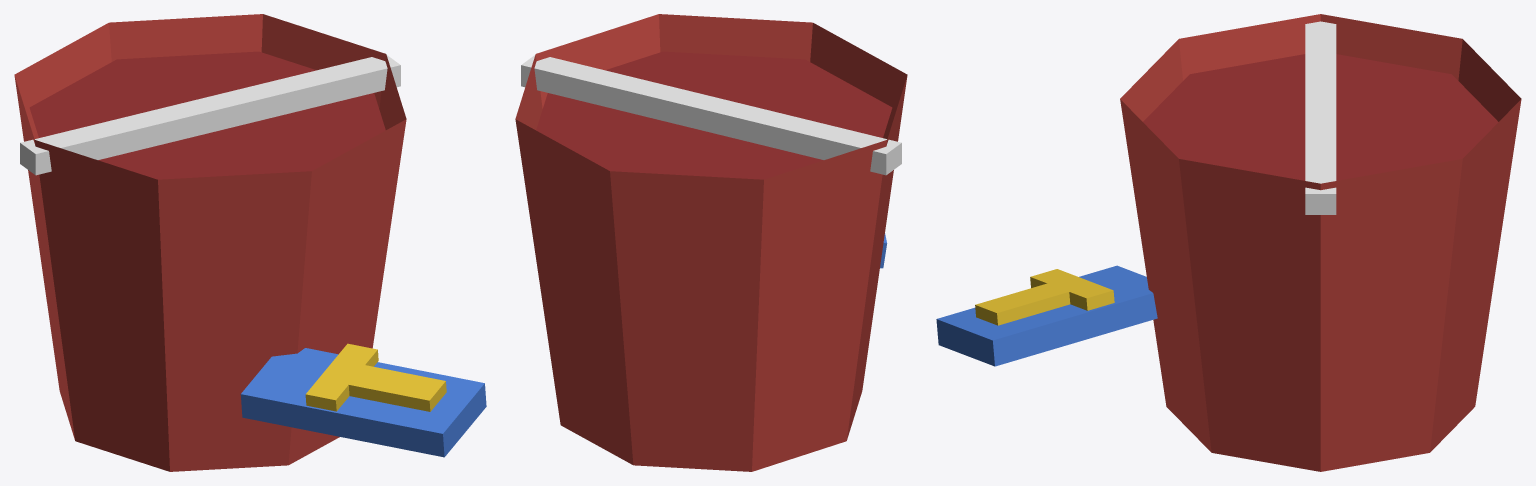
Rendered from balde_sandalia_trono.glb.
3 renders of one model, left to right at view 1: azimuth 30°, elevation 25°; view 2: azimuth 150°, elevation 25°; view 3: azimuth 270°, elevation 25°, orthographic.
Visible parts, largest first — view 1: Malha_3, _MeshInstance3D_1248_2, _MeshInstance3D_1250_0, _MeshInstance3D_1249_1; view 2: Malha_3; view 3: Malha_3, _MeshInstance3D_1248_2, _MeshInstance3D_1250_0, _MeshInstance3D_1249_1.
Boxes of the visible parts, x1=… form: Malha_3: x1=14, y1=14, x2=406, y2=471; _MeshInstance3D_1248_2: x1=240, y1=348, x2=486, y2=457; _MeshInstance3D_1250_0: x1=339, y1=363, x2=446, y2=411; _MeshInstance3D_1249_1: x1=305, y1=343, x2=378, y2=411; Malha_3: x1=515, y1=14, x2=907, y2=471; Malha_3: x1=1120, y1=14, x2=1521, y2=471; _MeshInstance3D_1248_2: x1=936, y1=265, x2=1157, y2=366; _MeshInstance3D_1250_0: x1=975, y1=281, x2=1077, y2=325; _MeshInstance3D_1249_1: x1=1030, y1=269, x2=1114, y2=310.
Bounding box in the file's own units: 0.378 × 0.308 × 0.5305.
